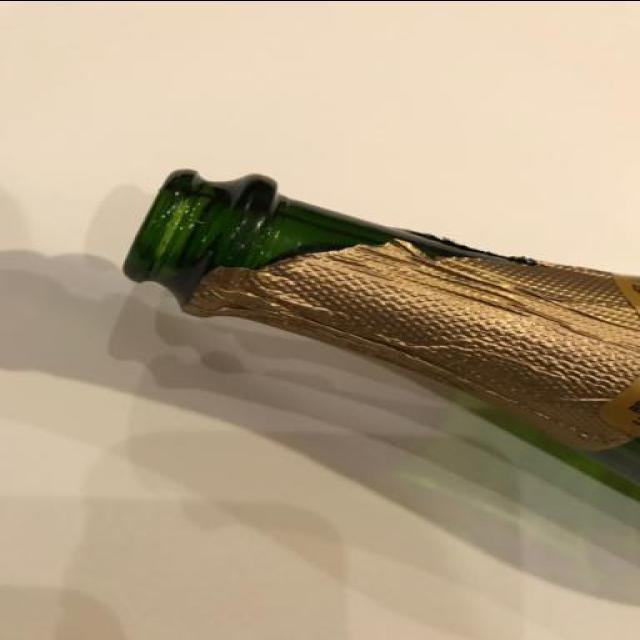glass: (128, 159, 640, 575)
